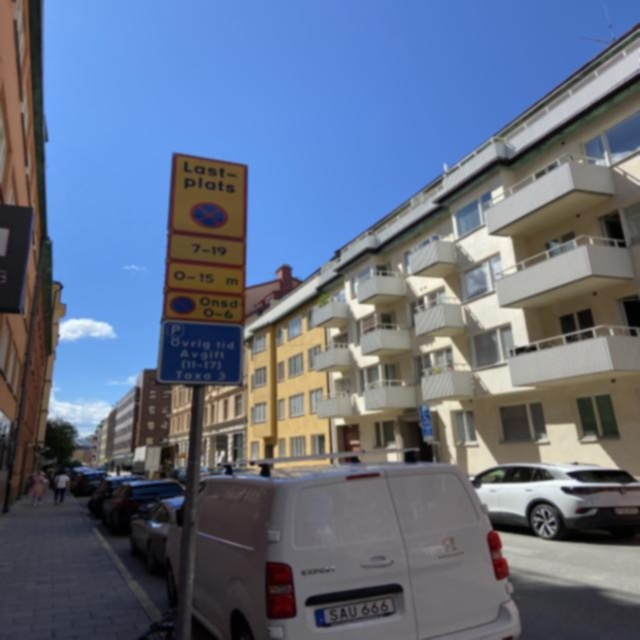lastplats: (170, 151, 248, 241)
